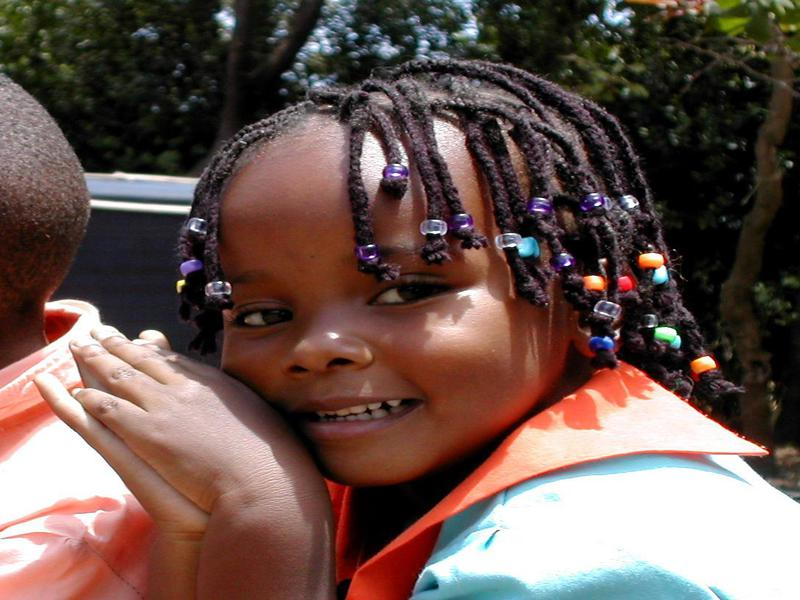person: (71, 70, 799, 600), (1, 78, 175, 600)
